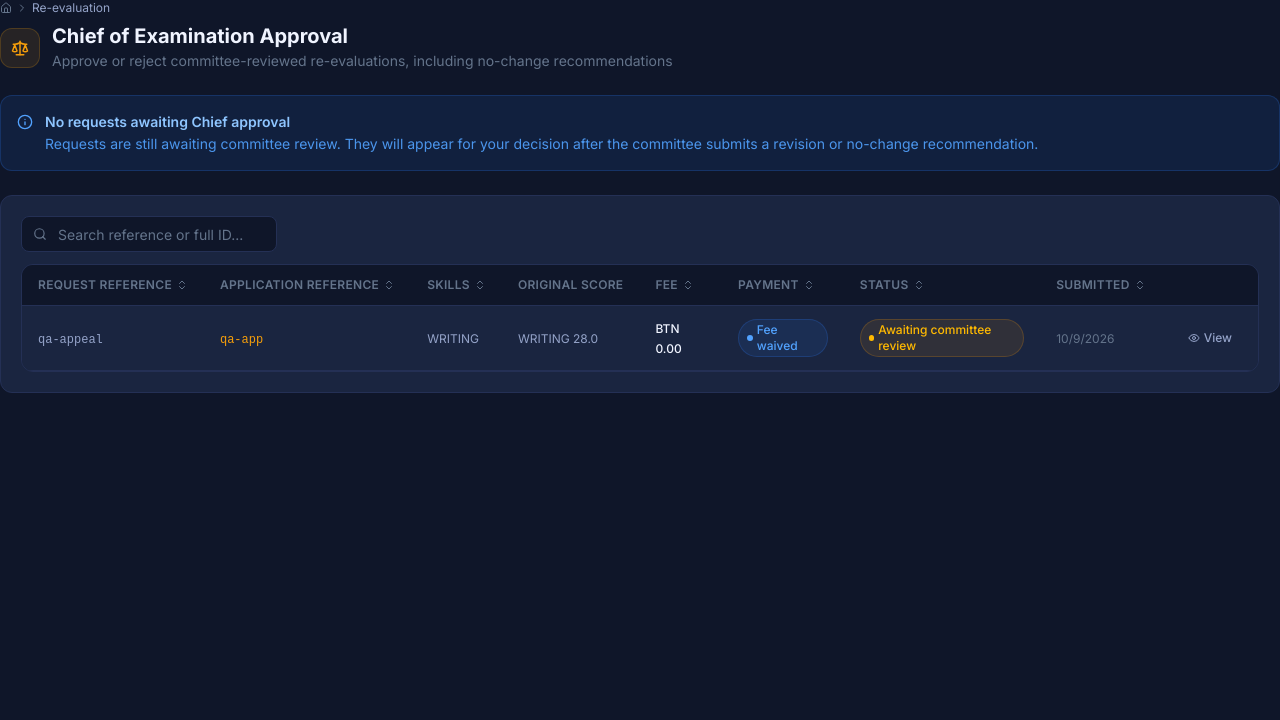
explains committee review is required instead of skipping it
This screenshot has width=1280, height=720.
Click the button "View". click: (1210, 338)
box: x1=1178 y1=324 x2=1242 y2=352
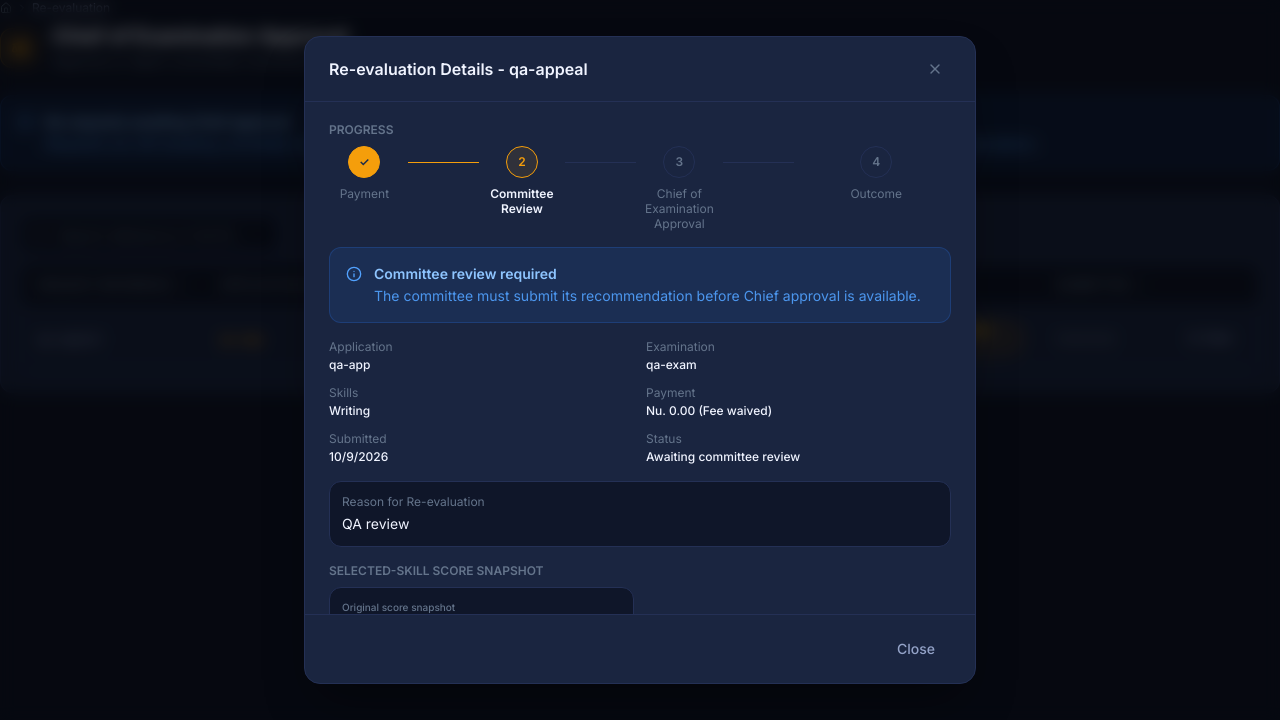
Now the text "Committee review required" is shown, box x1=374 y1=265 x2=557 y2=282
